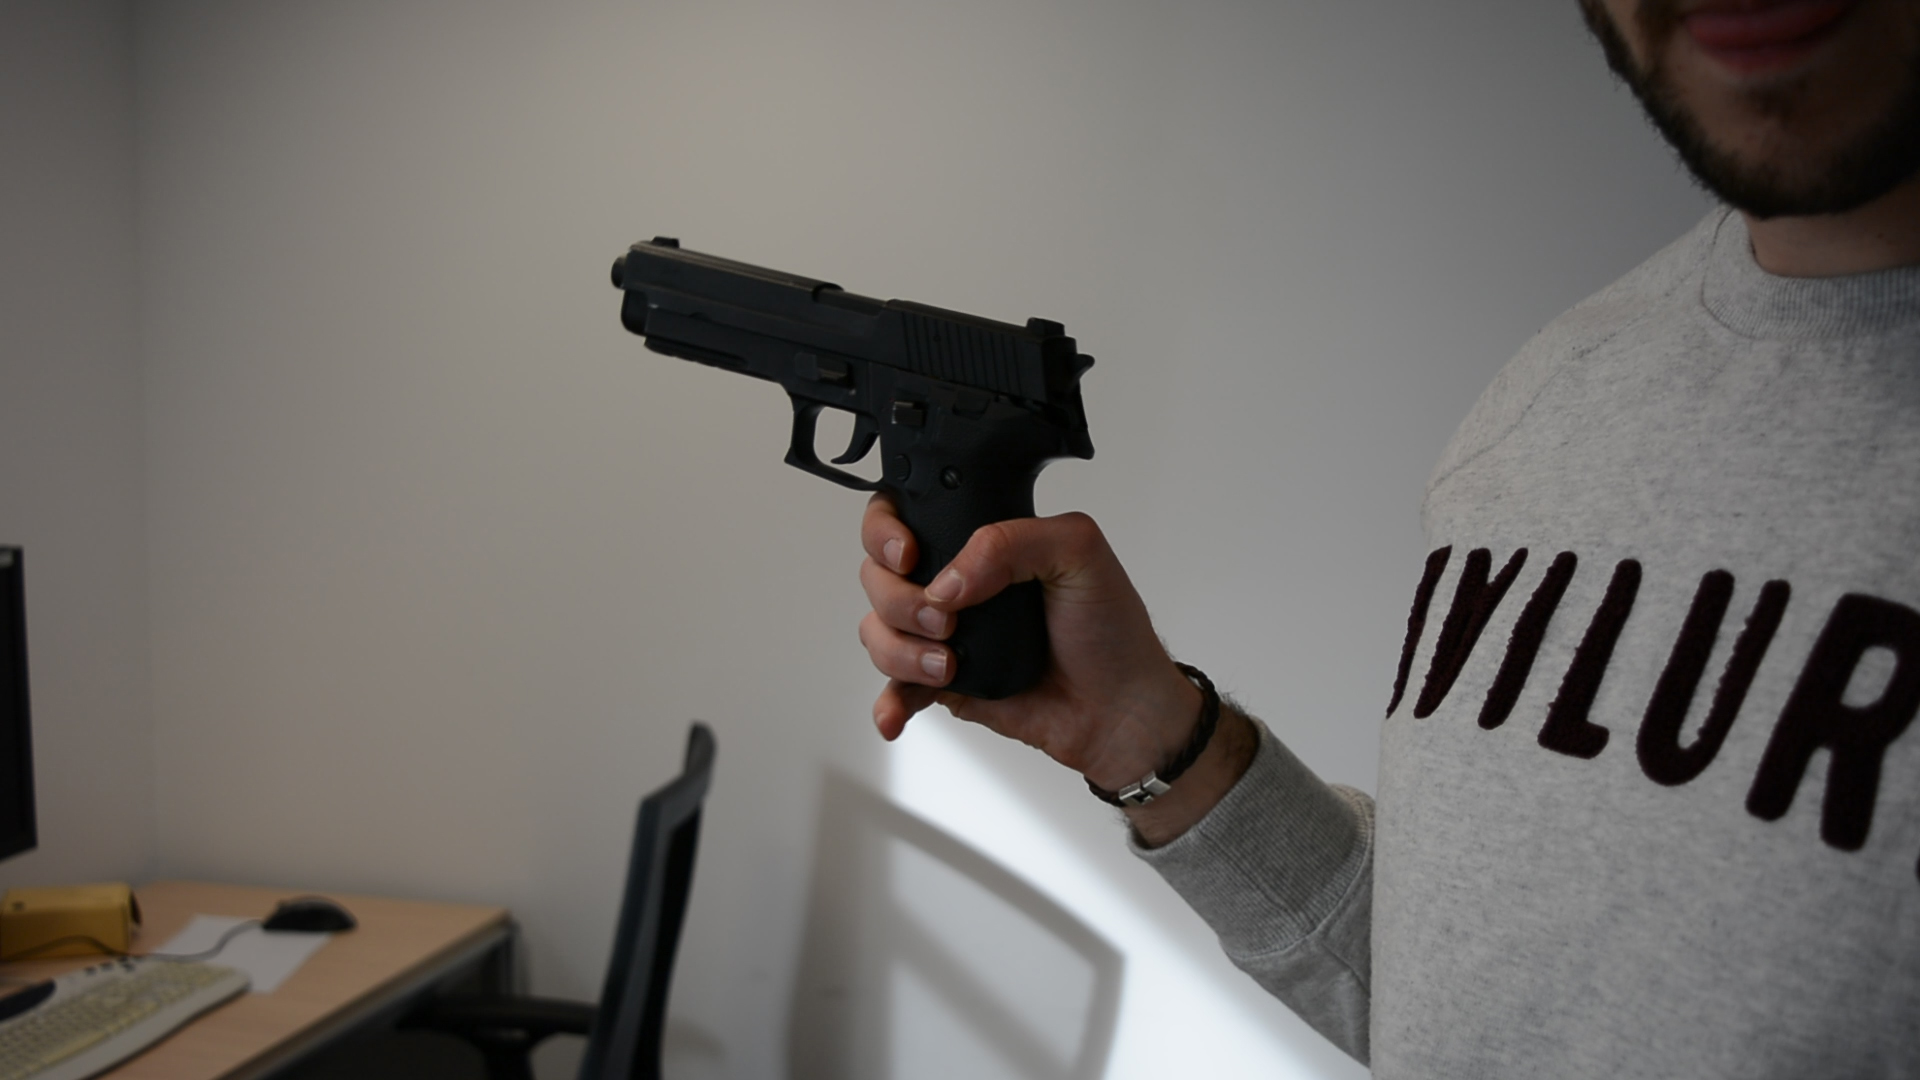pistol: (611, 233, 1100, 705)
